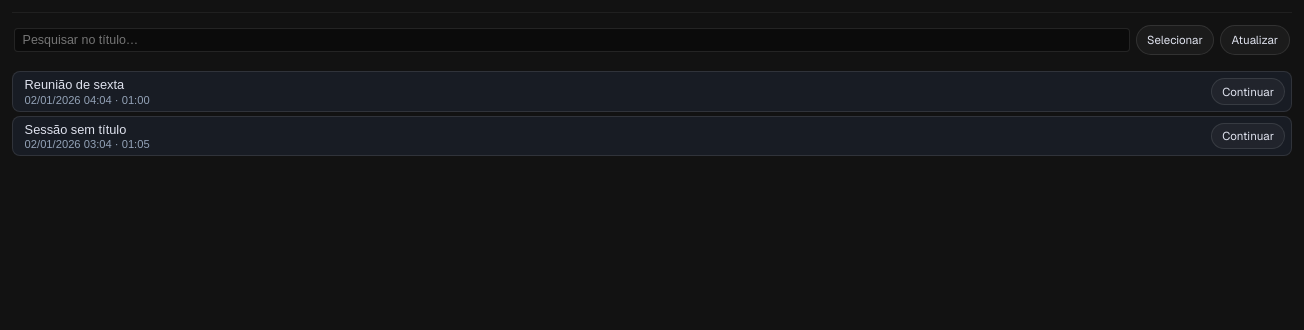
HistoryPanel › exporta em Markdown pelo caminho escolhido no diálogo
Click the text "Reunião de sexta": coordinates (74, 84) [25,77,124,92]
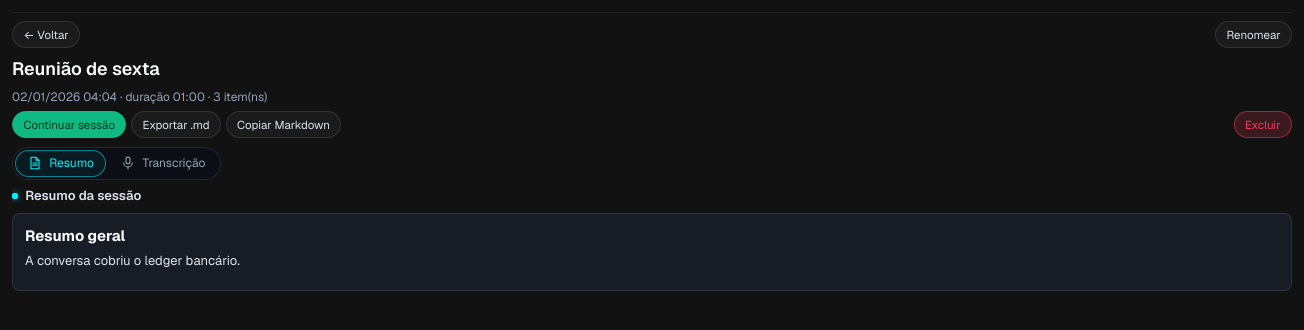
Click the button "Exportar .md": coordinates (176, 124) [131,111,221,138]
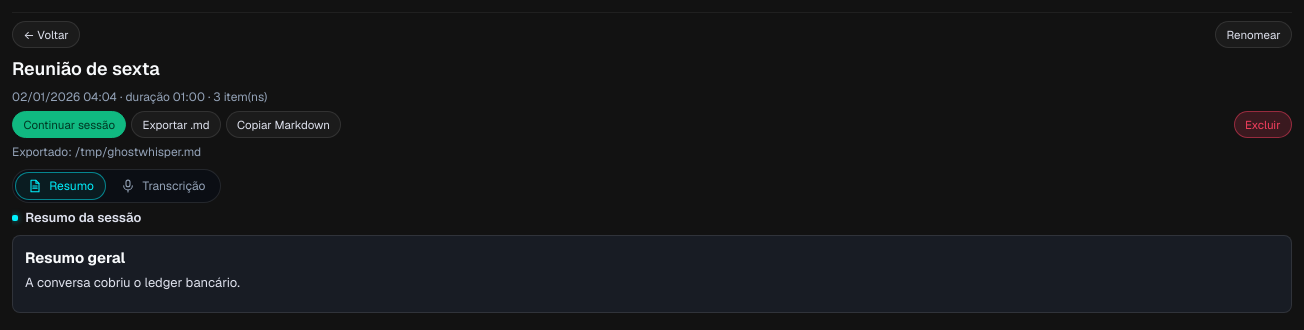
Expected: the text "Exportado: /tmp/ghostwhisper.md" is shown, [12,144,201,160]
